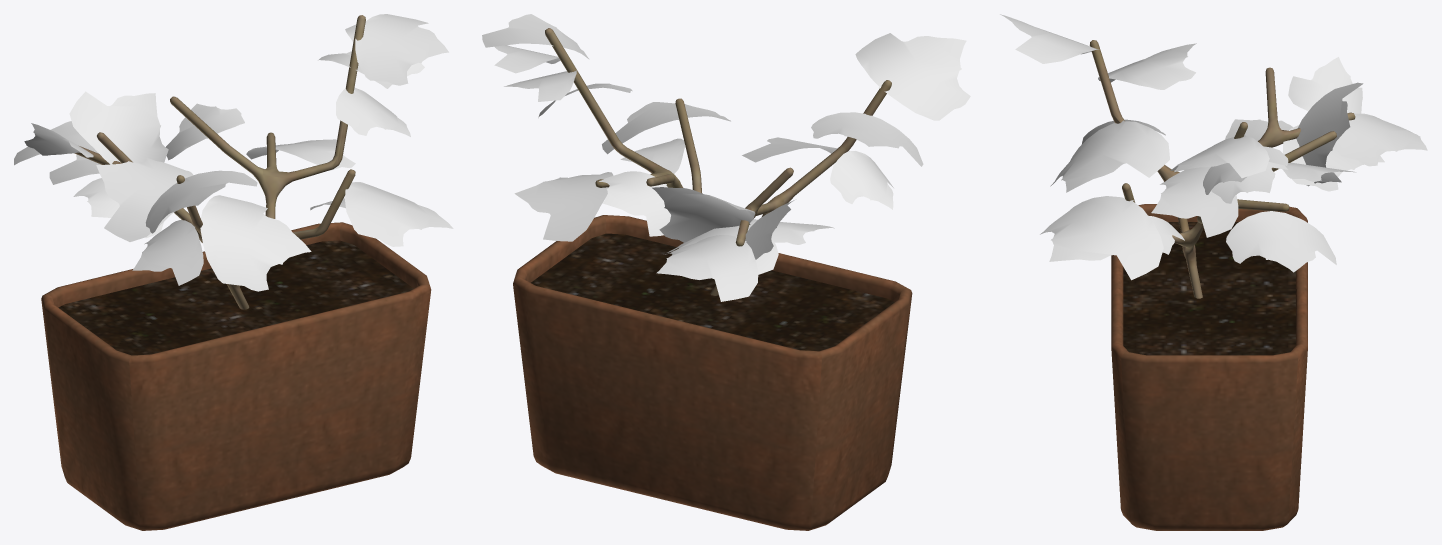
The model's file is Plants_Pots_10.fbx.
3 views of the same model, side by side, from view 1: azimuth 30°, elevation 25°; view 2: azimuth 150°, elevation 25°; view 3: azimuth 270°, elevation 25° (orthographic). The views are drawn at different scales.
Visible parts, largest first — view 1: Cylinder.013; view 2: Cylinder.013; view 3: Cylinder.013.
Part boxes in pixels (left/top/right/bottom): Cylinder.013: left=14, top=14, right=453, bottom=530; Cylinder.013: left=482, top=14, right=970, bottom=530; Cylinder.013: left=1000, top=14, right=1427, bottom=530.
Size of the model in its own units: 25.83 by 26.91 by 25.34.
